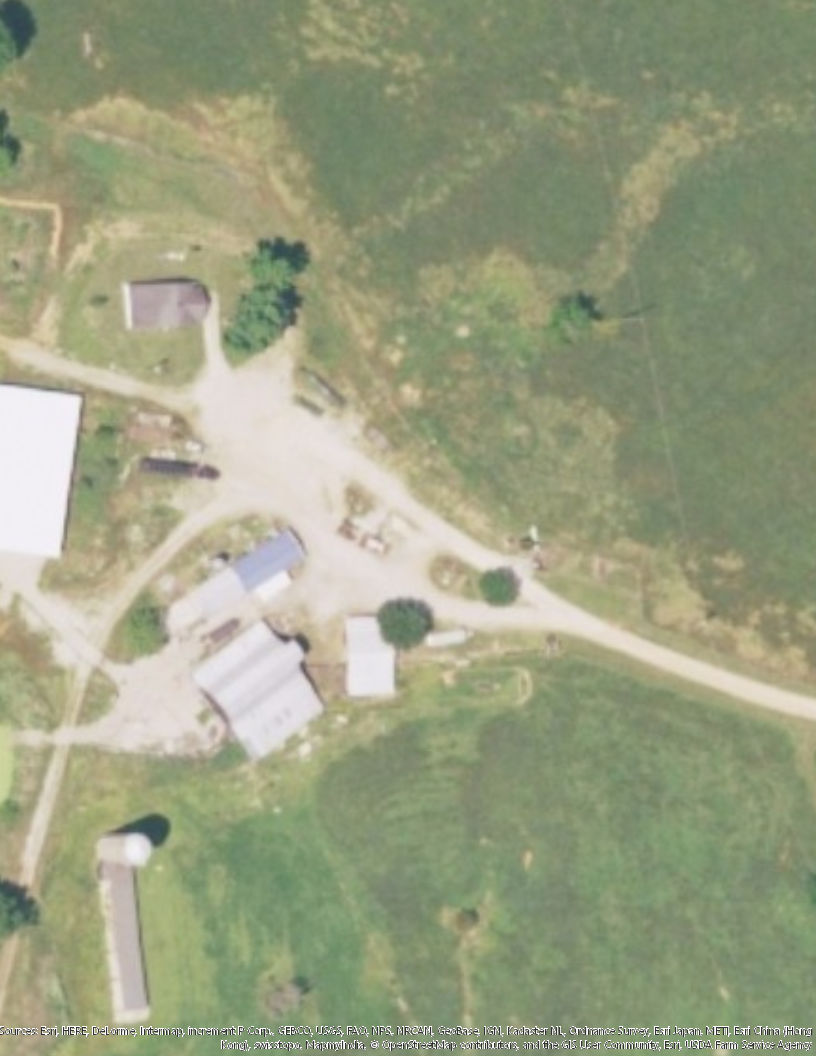cafo: (192, 612, 346, 751), (1, 385, 95, 566)
